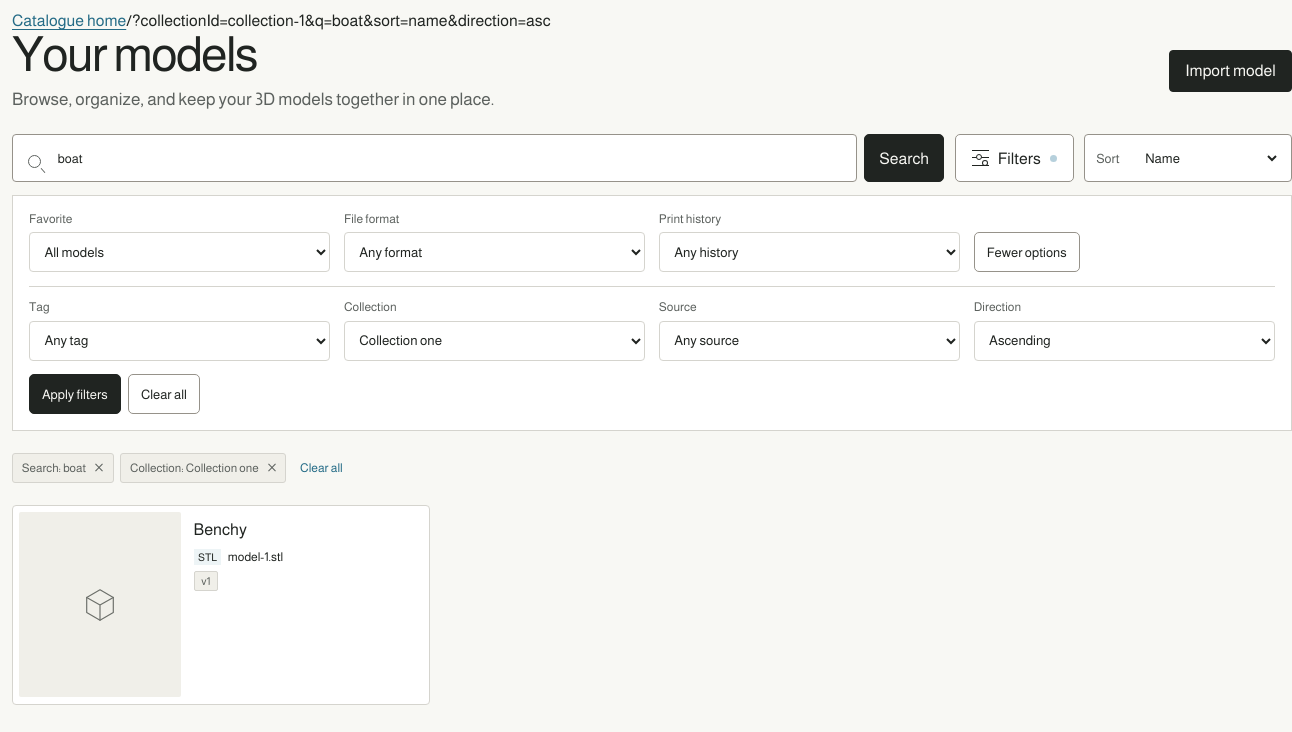
Test case: catalogue pages › applies sort immediately and restores catalogue state from the URL
The width and height of the screenshot is (1292, 732).
Expected: the link "Benchy STL model-1.stl v1" is shown, [12,505,430,705]
Expected: the search field named "Search catalogue" holds "boat", [12,134,857,182]
Select "Print count" in the dropdown labelled "Sort": point(1207, 158) [1135,140,1280,176]
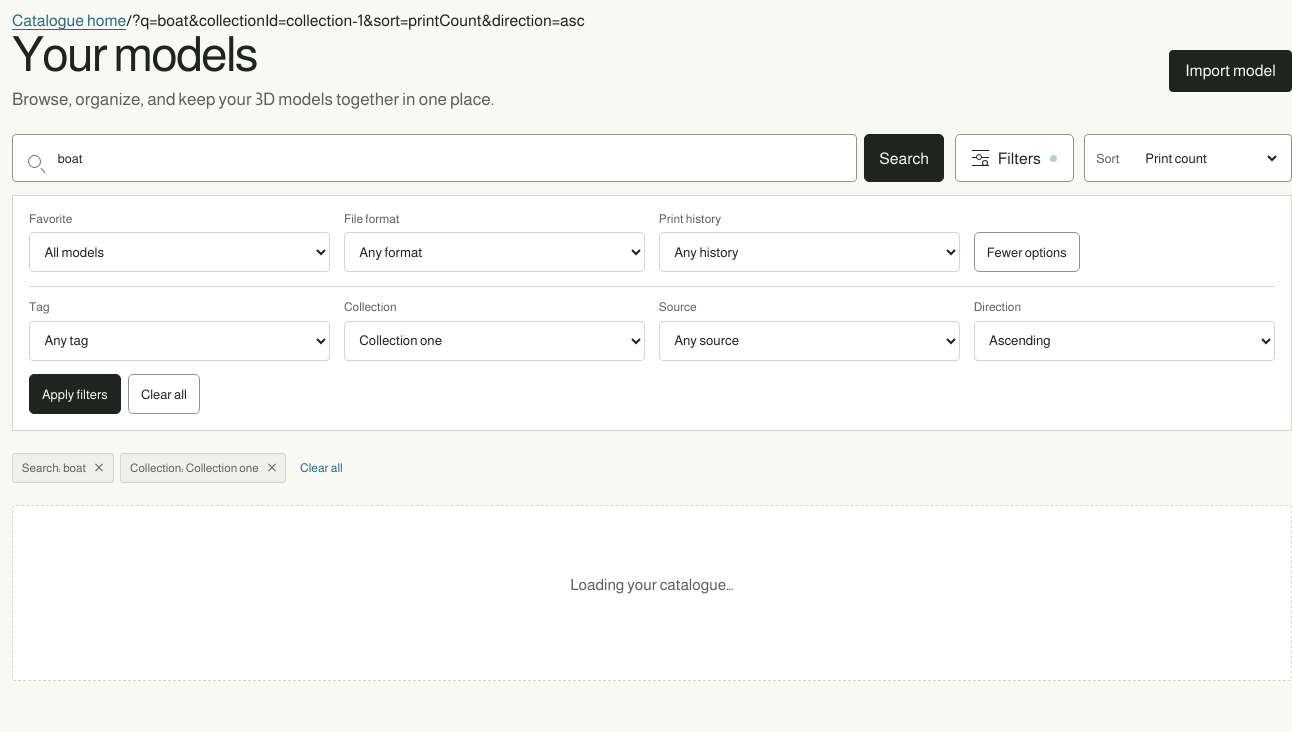
Expected: the text with test id "location" shows "q=boat", [126,12,585,29]
Expected: the text with test id "location" shows "sort=printCount", [126,12,585,29]
Click the link "Catalogue home": point(69, 20) [12,12,126,29]
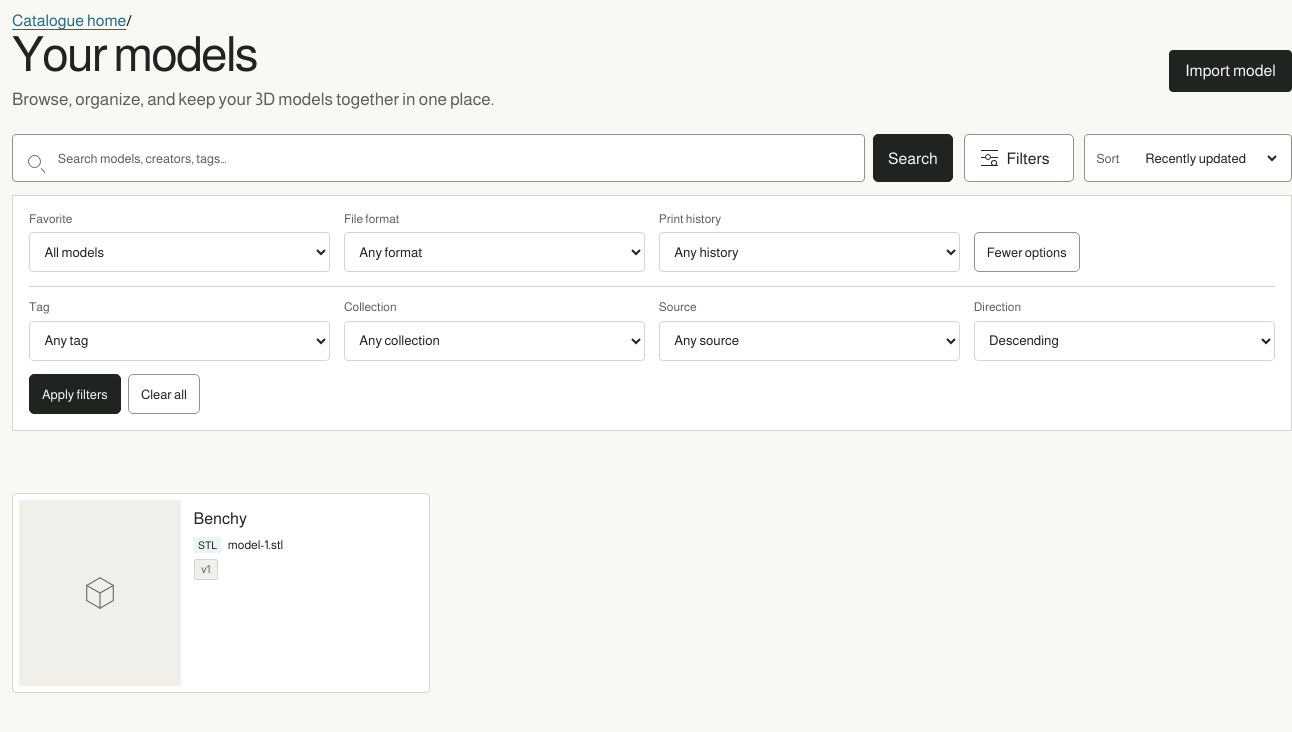
Expected: the text with test id "location" reads "/", [126,12,132,29]
Expected: the search field named "Search catalogue" is empty, [12,134,866,182]
Expected: the dropdown labelled "Collection" shows "Any collection", [344,321,645,361]
